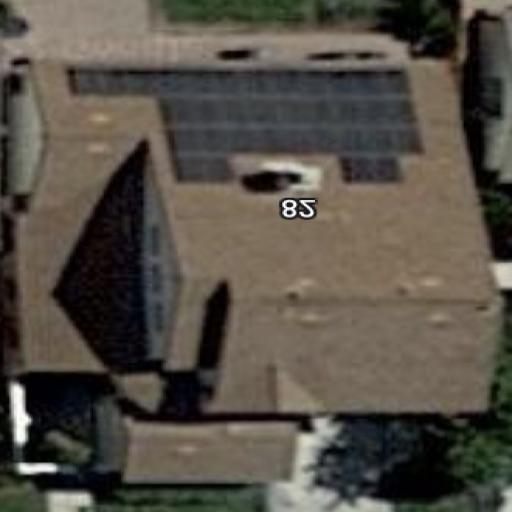Solar-Slope-Roof: (9, 55, 503, 418)
